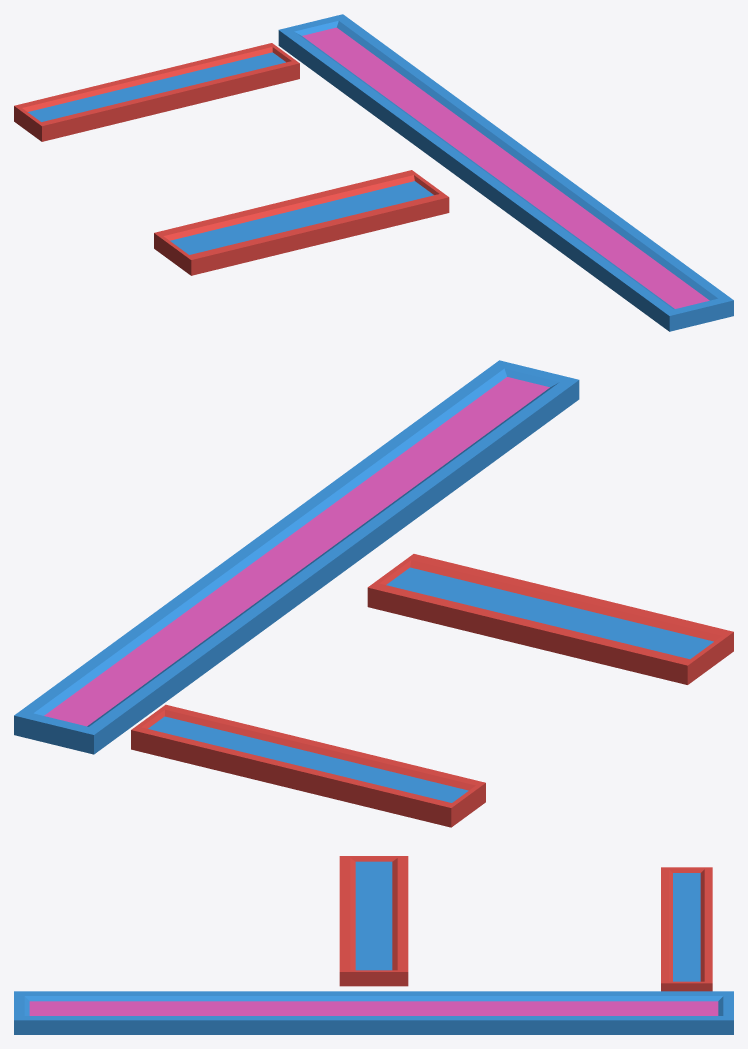
File: pilares_techo.fbx
3 views of the same model, one above another, from view 1: azimuth 30°, elevation 25°; view 2: azimuth 150°, elevation 25°; view 3: azimuth 270°, elevation 25° (orthographic). The views are drawn at different scales.
Parts seen in each view (by area): view 1: Cube.038, Cube.039, Cube.040; view 2: Cube.038, Cube.039, Cube.040; view 3: Cube.038, Cube.039, Cube.040.
Part boxes in pixels (x1,y1,x2,y2): Cube.038: [278, 14, 733, 331]; Cube.039: [154, 170, 449, 275]; Cube.040: [14, 43, 299, 141]; Cube.038: [14, 360, 579, 754]; Cube.039: [367, 554, 733, 684]; Cube.040: [131, 704, 485, 827]; Cube.038: [14, 991, 733, 1034]; Cube.039: [339, 856, 408, 986]; Cube.040: [661, 867, 712, 991].
Size of the model in its own units: 1135 by 46.67 by 2100.
